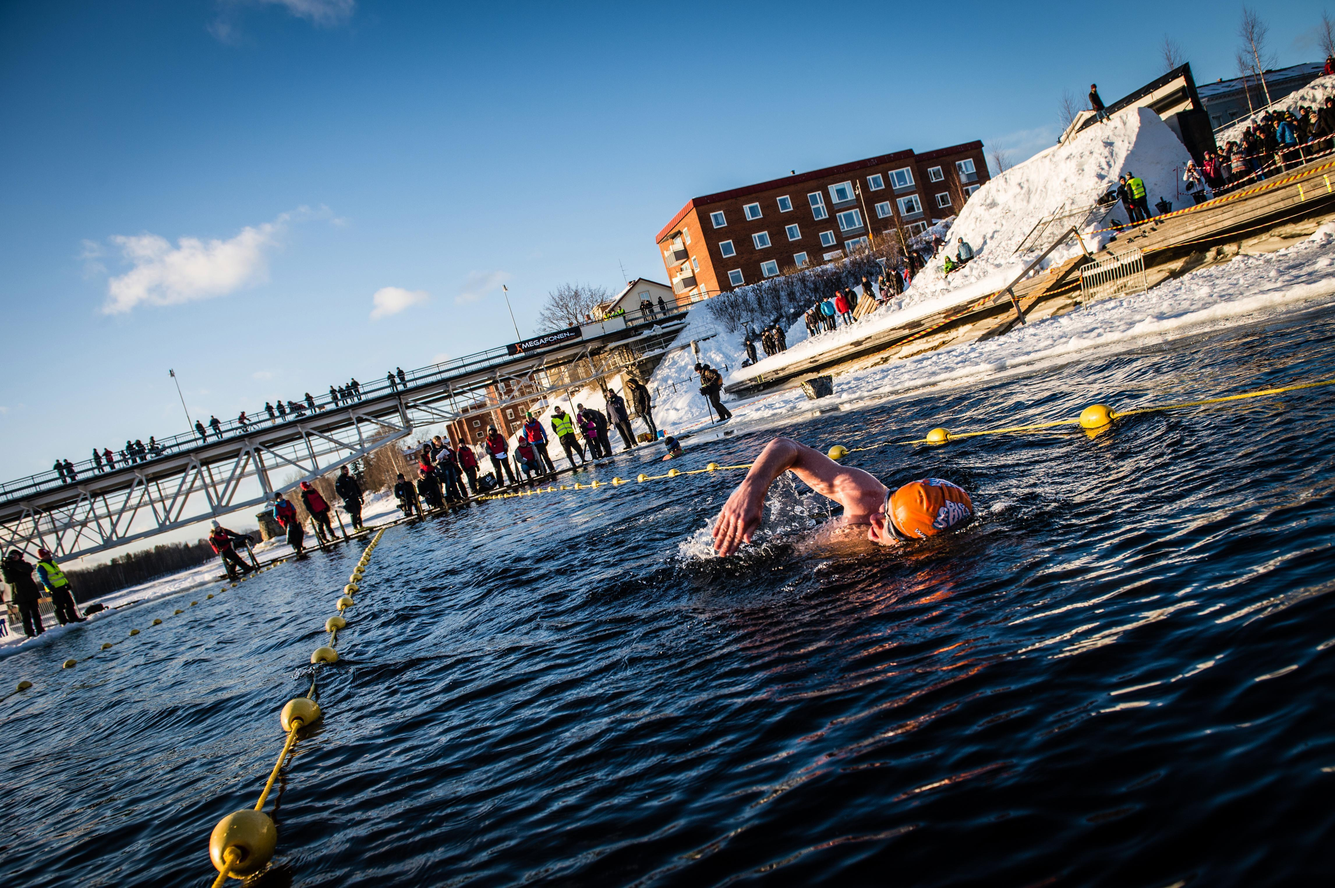swimmer: (713, 435, 973, 562)
